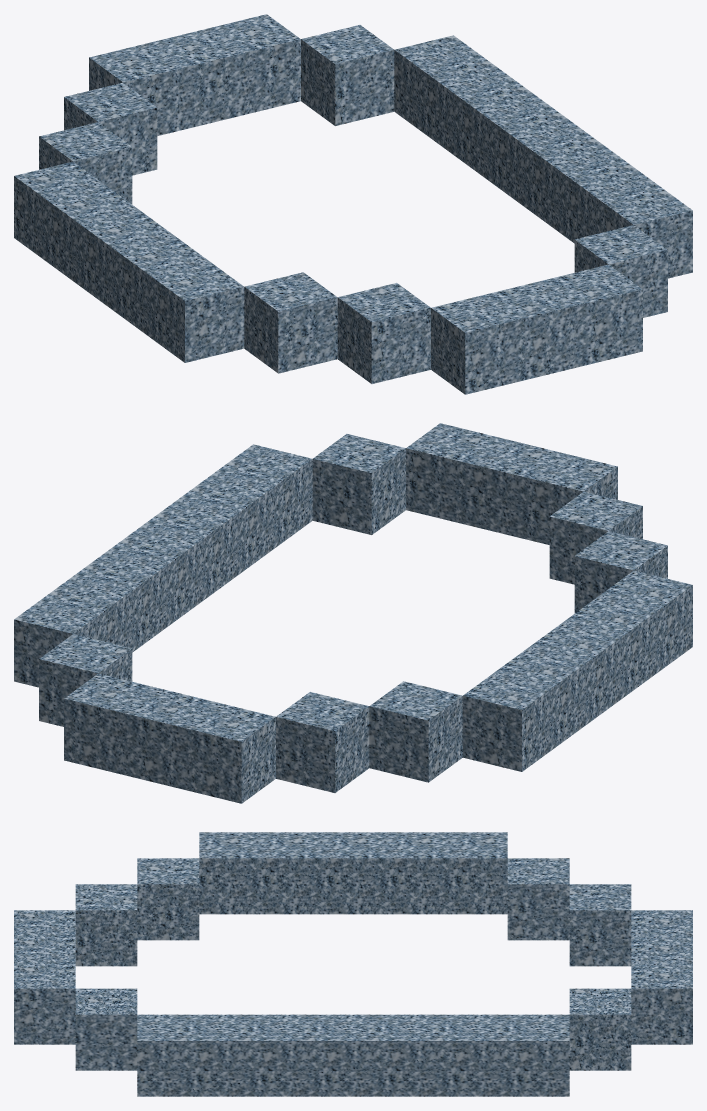
The model's file is prisen pit 1.FBX.
The picture shows the model from 3 angles, top to bottom: view 1: azimuth 30°, elevation 25°; view 2: azimuth 150°, elevation 25°; view 3: azimuth 270°, elevation 25°; orthographic projection. The views are drawn at different scales.
Parts seen in each view (by area): view 1: Box001; view 2: Box001; view 3: Box001.
Boxes of the visible parts, x1=… form: Box001: x1=14, y1=14, x2=692, y2=394; Box001: x1=14, y1=423, x2=692, y2=803; Box001: x1=14, y1=832, x2=692, y2=1096.
Size of the model in its own units: 80 by 10 by 110.
